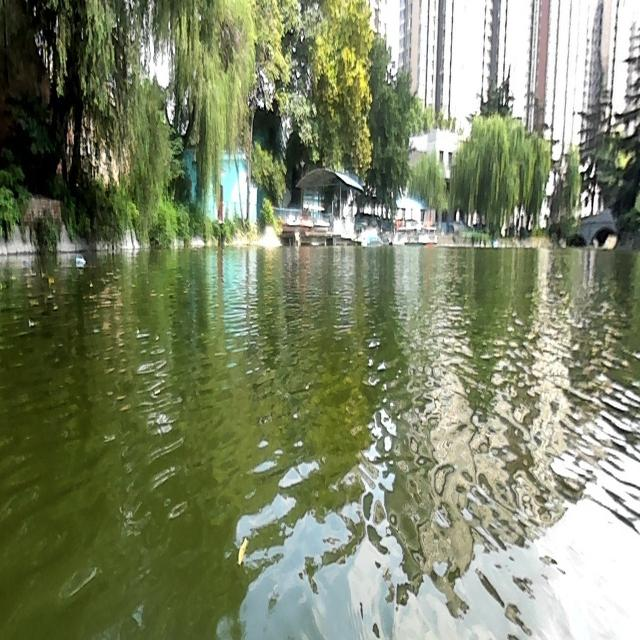bottle: (75, 256, 85, 265)
